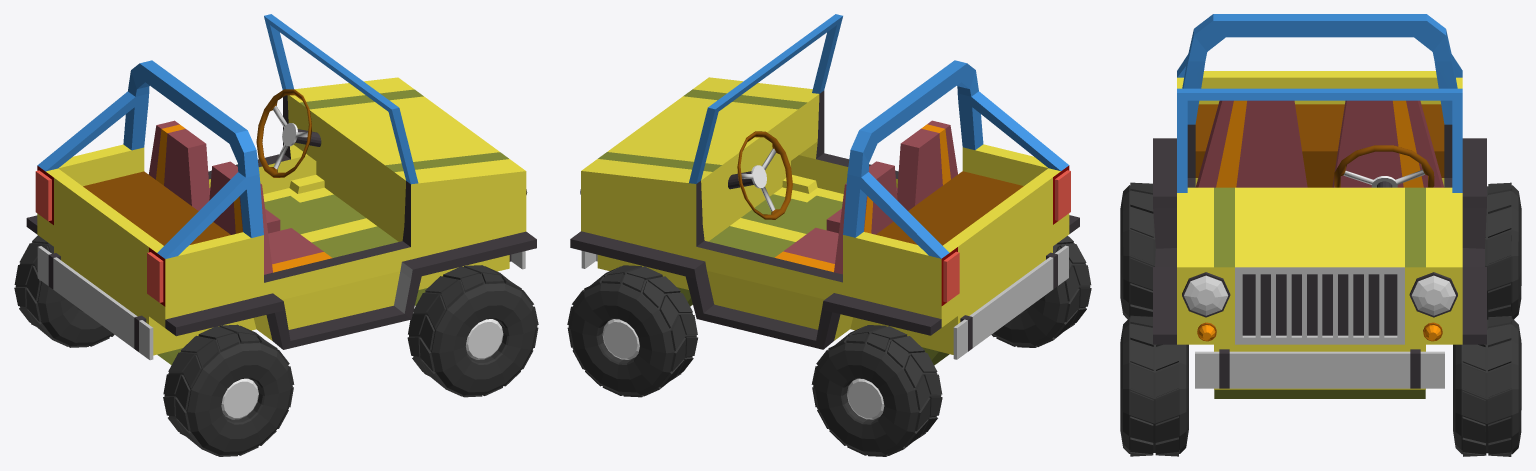
File: jeep_multi.glb
3 renders of one model, left to right at view 1: azimuth 30°, elevation 25°; view 2: azimuth 150°, elevation 25°; view 3: azimuth 270°, elevation 25°, orthographic. The views are drawn at different scales.
Visible parts, largest first — view 1: body, wheel_back_right, wheel_front_right, wheel_back_left; view 2: body, wheel_back_left, wheel_front_left, wheel_back_right; view 3: body, wheel_front_left, wheel_front_right, wheel_back_left, wheel_back_right.
Part boxes in pixels (x1,y1,x2,y2): body: (26,14,536,364); wheel_back_right: (163,324,294,456); wheel_front_right: (407,265,538,397); wheel_back_left: (14,235,114,347); body: (570,14,1079,365); wheel_back_left: (811,325,942,456); wheel_front_left: (567,265,697,397); wheel_back_right: (991,235,1091,347); body: (1153,14,1486,398); wheel_front_left: (1453,316,1521,456); wheel_front_right: (1120,315,1188,456); wheel_back_left: (1485,182,1521,319); wheel_back_right: (1120,182,1155,319).
Size of the model in its own units: 4.84 by 3.55 by 4.
